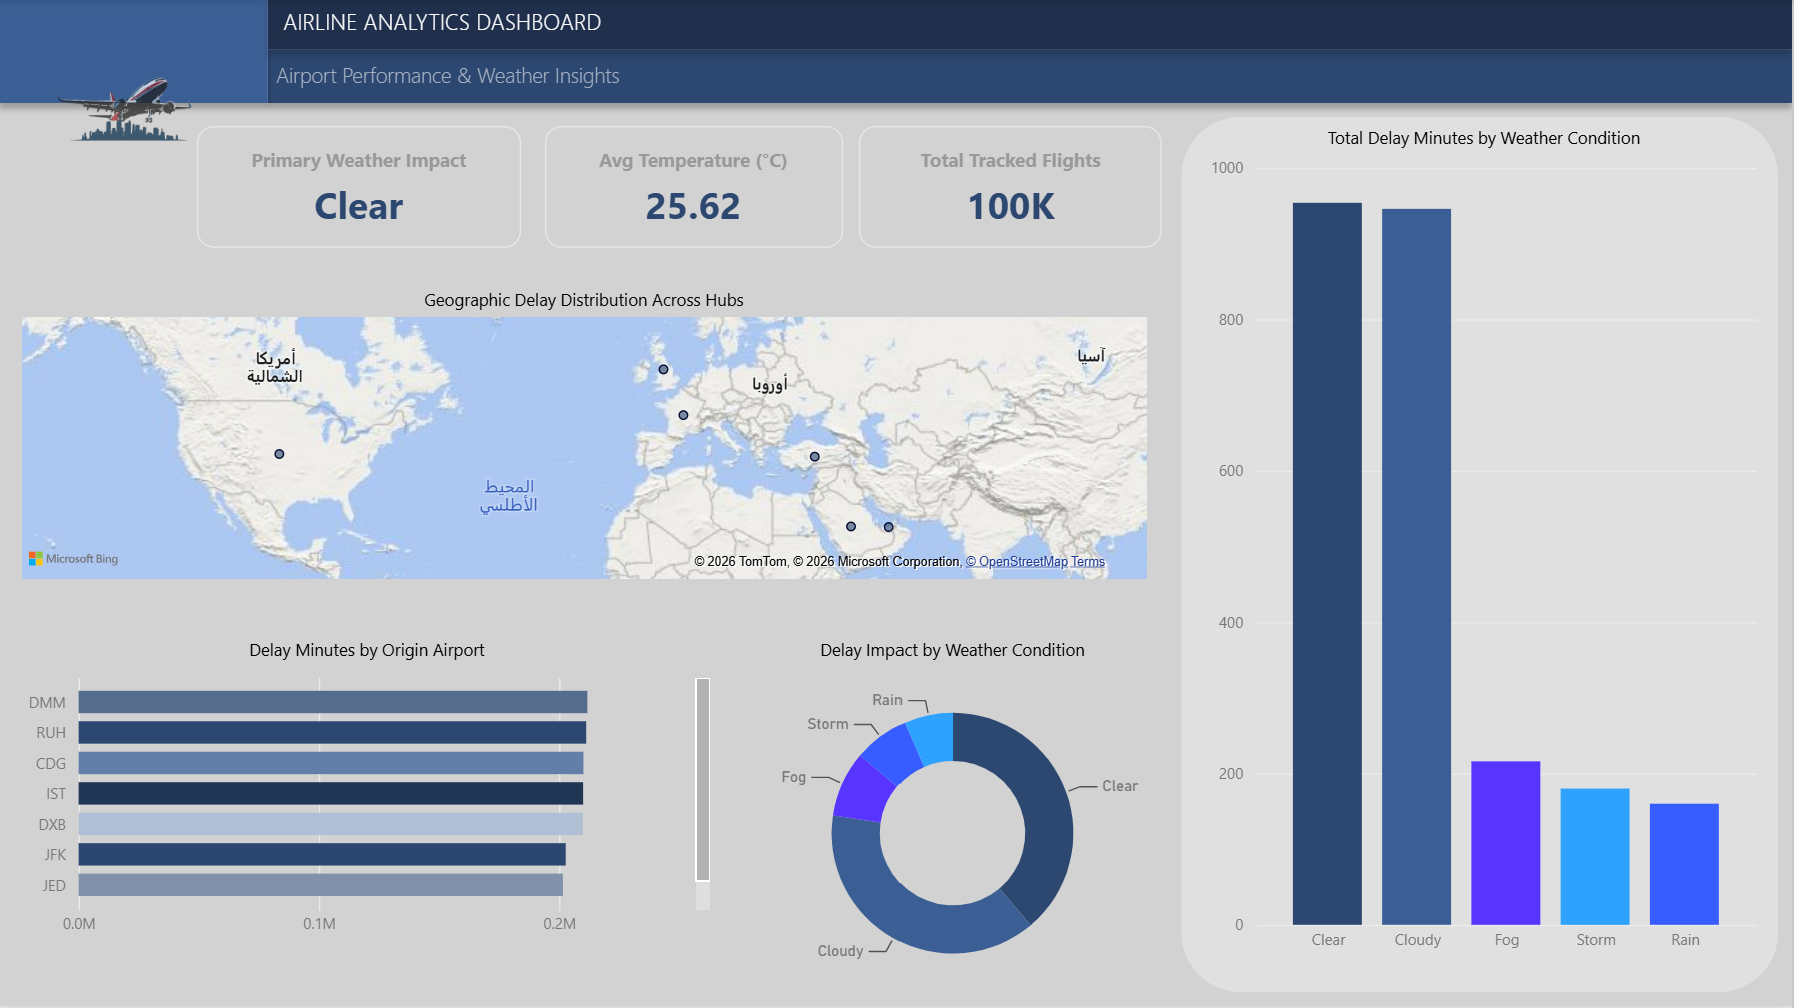

This screenshot's page, from the dashboard's own definition file:
{"tool":"powerbi","page":{"name":"04 | Airport & Weather ","canvas":[1920,1080],"ordinal":3},"visuals":[{"type":"shape","box":[0,0,182.9,1079.3],"z":0},{"type":"textbox","box":[246,15.9,325.3,68.2],"z":1000},{"type":"textbox","box":[246,63.5,560.1,66.6],"z":2000},{"type":"textbox","box":[10,10,182.9,58],"z":3000},{"type":"textbox","box":[0,58,182.9,55.7],"z":4000},{"type":"actionButton","box":[64.7,260.9,70,70],"z":5000},{"type":"image","box":[78,276.5,44.6,37.9],"z":6000},{"type":"actionButton","box":[64,340,70,70],"z":7000},{"type":"actionButton","box":[64.7,420,70,70],"z":8000},{"type":"actionButton","box":[64.7,500,70,70],"z":9000},{"type":"image","box":[78,356,44,37],"z":10000},{"type":"image","box":[78,436,44,37],"z":11000},{"type":"image","box":[78,516,44,37],"z":12000},{"type":"cardVisual","fields":{"Data":["_Measures.Total Airports"]},"box":[374.2,111.7,259.3,173.6],"z":13000},{"type":"cardVisual","fields":{"Data":["_Measures.Average Temperature"]},"box":[719.8,111.7,259.3,173.6],"z":14000},{"type":"cardVisual","fields":{"Data":["_Measures.Average Wind Speed"]},"box":[1065.3,111.7,259.3,173.6],"z":15000},{"type":"cardVisual","fields":{"Data":["_Measures.Average Visibility"]},"box":[1410.8,111.7,259.3,173.6],"z":16000},{"type":"shape","box":[231.9,294.4,805,410.3],"z":17000},{"type":"shape","box":[231.9,706.9,805,345.6],"z":18000},{"type":"shape","box":[1083.8,296.6,805,410.3],"z":19000},{"type":"shape","box":[1083.8,706.9,805,345.6],"z":20000},{"type":"clusteredBarChart","title":"Flights by Origin Airport","fields":{"Category":["Dim_Origin_Airport.Airport_Name"],"Y":["_Measures.Total Flights"]},"box":[272.1,296.6,722.5,408.1],"z":21000},{"type":"clusteredColumnChart","title":"Average Visibility by Weather Condition","fields":{"Category":["Fact_Weather.Condition"],"Y":["_Measures.Average Visibility"]},"box":[1101.6,314.4,789.4,392.5],"z":22000},{"type":"lineChart","title":"Temperature Trend","fields":{"Category":["Dim_Date.Month Year"],"Y":["_Measures.Average Temperature"]},"box":[254.2,722.5,758.2,314.4],"z":23000},{"type":"clusteredBarChart","title":"Average Wind Speed by Weather Condition","fields":{"Category":["Fact_Weather.Condition"],"Y":["_Measures.Average Wind Speed"]},"box":[1101.6,722.5,764.9,314.4],"z":24000},{"type":"image","box":[546.3,173.9,50,50],"z":25000},{"type":"image","box":[912.1,173.9,50,50],"z":26000},{"type":"image","box":[1603.3,173.9,50,50],"z":27000},{"type":"image","box":[1257.7,171.7,50,50],"z":27001}]}

Visuals, with their boxes in screenshot pixels (x1, y1, x2, y2), scaled from the page's 1920x1080 canvas onto the 1794x1008 screenshot:
shape: 0,0,171,1007
textbox: 230,15,534,78
textbox: 230,59,753,121
textbox: 9,9,180,63
textbox: 0,54,171,106
actionButton: 60,244,126,309
image: 73,258,115,293
actionButton: 60,317,125,383
actionButton: 60,392,126,457
actionButton: 60,467,126,532
image: 73,332,114,367
image: 73,407,114,441
image: 73,482,114,516
cardVisual - _Measures.Total Airports: 350,104,592,266
cardVisual - _Measures.Average Temperature: 673,104,915,266
cardVisual - _Measures.Average Wind Speed: 995,104,1238,266
cardVisual - _Measures.Average Visibility: 1318,104,1560,266
shape: 217,275,969,658
shape: 217,660,969,982
shape: 1013,277,1765,660
shape: 1013,660,1765,982
"Flights by Origin Airport" clusteredBarChart: 254,277,929,658
"Average Visibility by Weather Condition" clusteredColumnChart: 1029,293,1767,660
"Temperature Trend" lineChart: 238,674,946,968
"Average Wind Speed by Weather Condition" clusteredBarChart: 1029,674,1744,968
image: 510,162,557,209
image: 852,162,899,209
image: 1498,162,1545,209
image: 1175,160,1222,207
